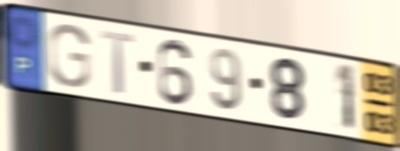1: (334, 61, 356, 135)
6: (156, 36, 195, 108)
8: (268, 55, 307, 123)
9: (208, 46, 243, 114)
G: (46, 22, 93, 90)
T: (98, 27, 137, 97)
